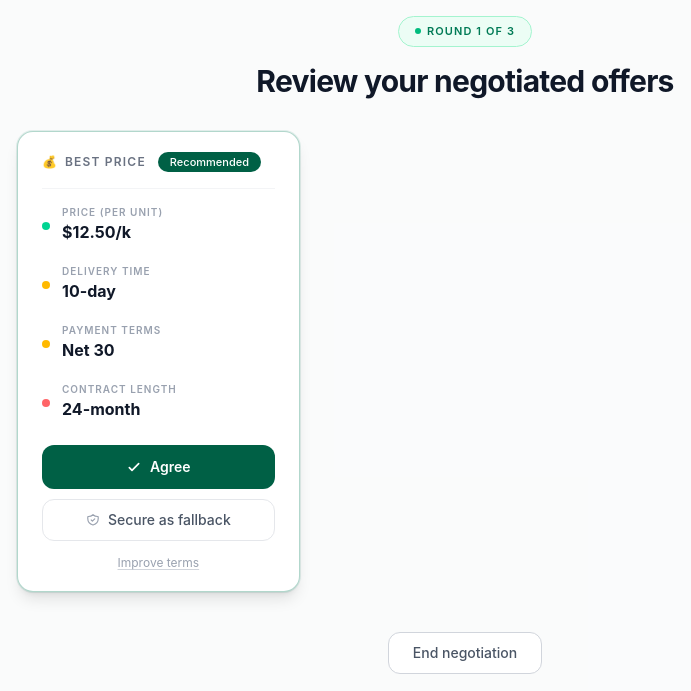
Test: App — acting phase (disabled state) › D14: acting phase disables "End negotiation" button
This screenshot has width=691, height=691.
Click the button "Agree". click: x=158, y=467
box: [42,445,275,489]
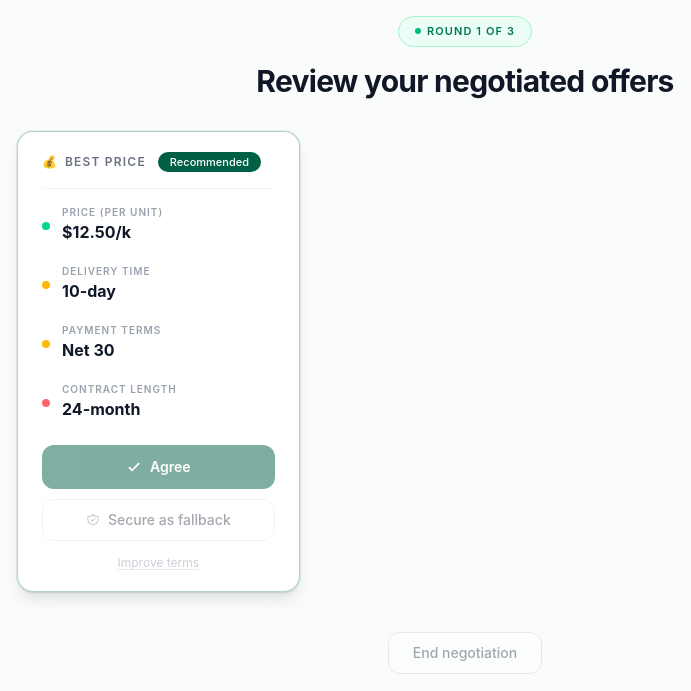
Expected: the button "End negotiation" is disabled, [388,632,542,674]
